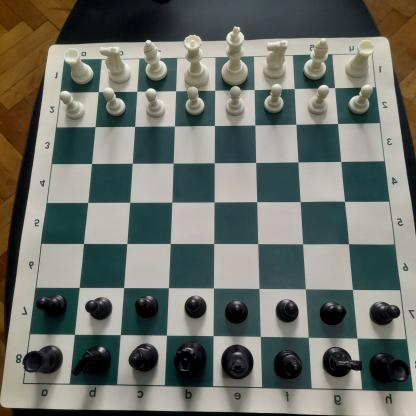black-bishop: (127, 340, 160, 374), (272, 348, 304, 381)
black-king: (221, 343, 254, 380)
black-knight: (321, 344, 362, 380), (70, 344, 112, 379)
black-pawn: (367, 298, 402, 327), (84, 294, 115, 322), (319, 298, 347, 327), (35, 294, 67, 318), (274, 297, 299, 324), (224, 300, 249, 325), (184, 294, 207, 320), (134, 295, 158, 319)
black-queen: (172, 340, 208, 376)
black-rook: (368, 351, 411, 385), (22, 344, 63, 379)
white-bishop: (302, 38, 330, 81), (143, 39, 168, 82)
white-king: (219, 26, 250, 86)
white-knight: (99, 46, 132, 84), (260, 39, 288, 80)
white-pawn: (347, 83, 375, 116), (59, 90, 85, 121), (102, 87, 127, 118), (306, 84, 330, 115), (262, 83, 286, 114), (184, 85, 206, 118), (144, 88, 166, 120), (225, 85, 245, 116)
white-queen: (183, 34, 210, 88)
white-rook: (63, 47, 94, 86), (344, 40, 375, 78)
